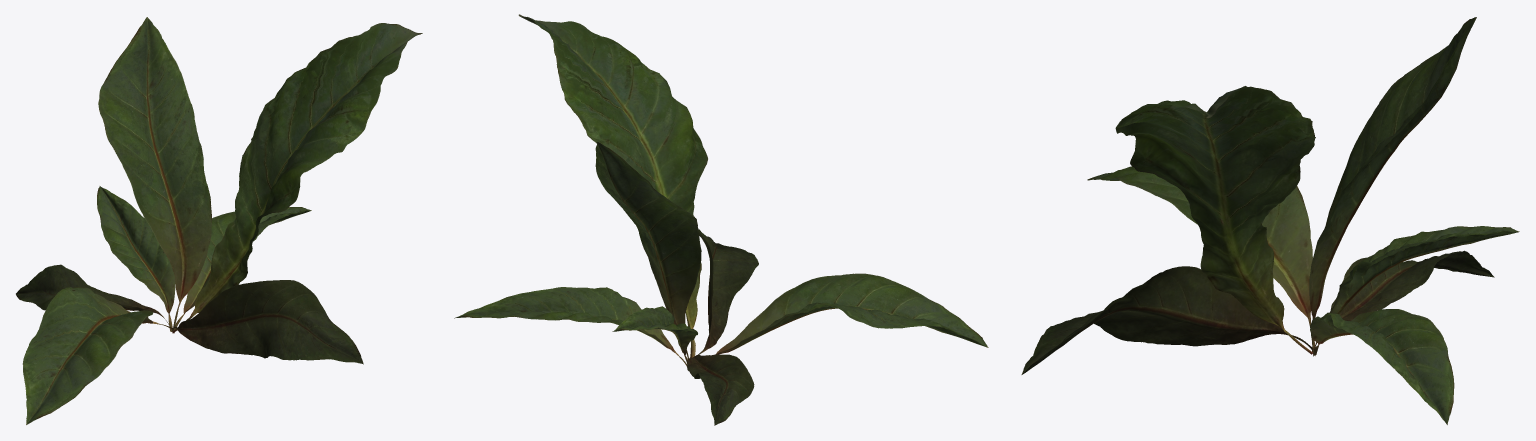
The model's file is anthurium_botany_01_01.glb.
3 renders of one model, left to right at view 1: azimuth 30°, elevation 25°; view 2: azimuth 150°, elevation 25°; view 3: azimuth 270°, elevation 25°, orthographic. The views are drawn at different scales.
Parts seen in each view (by area): view 1: anthurium_botany_01; view 2: anthurium_botany_01; view 3: anthurium_botany_01.
Boxes of the visible parts, x1,y1,x2,y2 form: anthurium_botany_01: (16, 17, 422, 424); anthurium_botany_01: (454, 14, 988, 425); anthurium_botany_01: (1021, 17, 1519, 424).
Bounding box in the file's own units: 0.4809 × 0.3012 × 0.3507.
1 material, 1 textured.
